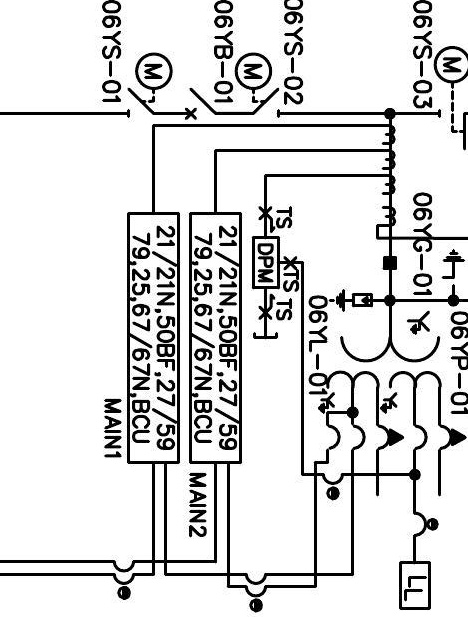115_1way_ds_w_motor: (234, 51, 281, 119), (126, 51, 173, 119)
115_breaker: (184, 87, 216, 121)
115_gs: (441, 248, 466, 289)
115_la: (328, 288, 373, 313)
115_vt_3p: (317, 310, 468, 451)
DPM: (252, 236, 280, 289)
LL: (399, 561, 432, 611)
